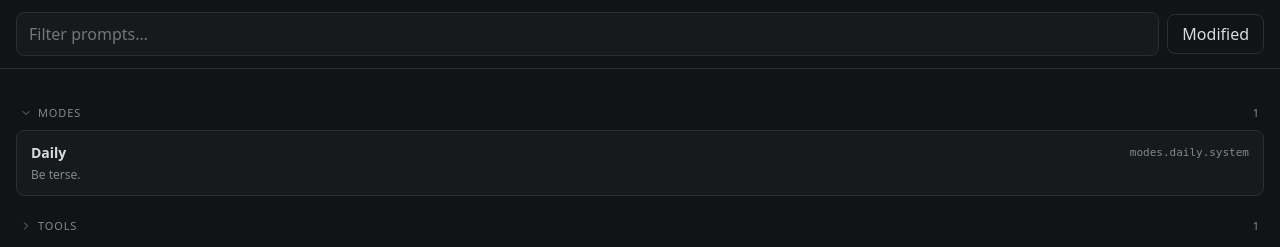
Scenario: PromptsPanel › a filter force-opens collapsed groups and narrows the list
Expected: the text "Daily" is shown, [31,143,66,162]
Type "search" into the field with placeholder "Filter prompts…" at (588, 34), box [16,12,1159,56]
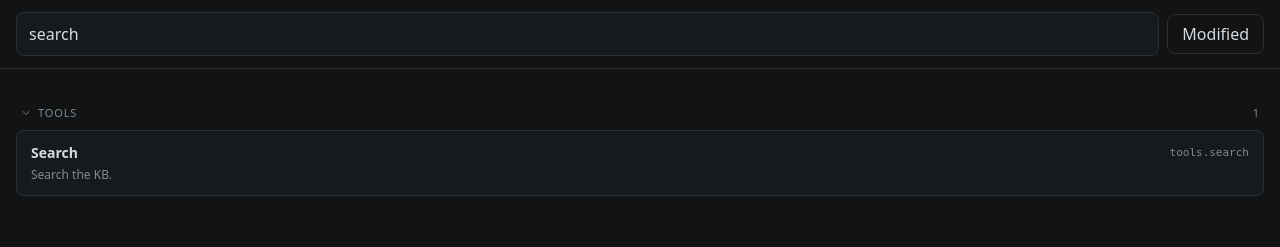
Expected: the text "Search" is shown, [31,143,78,162]
Expected: the text "Daily" is gone
Expected: the text "Modes" is gone
